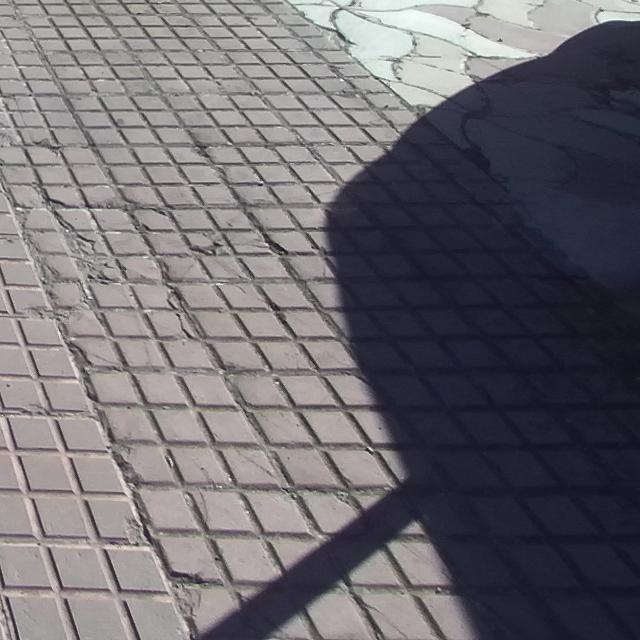calcada_quebrada: (65, 345, 153, 517), (15, 204, 125, 313), (121, 517, 210, 610), (160, 285, 228, 346), (233, 589, 304, 639), (0, 124, 23, 152)
